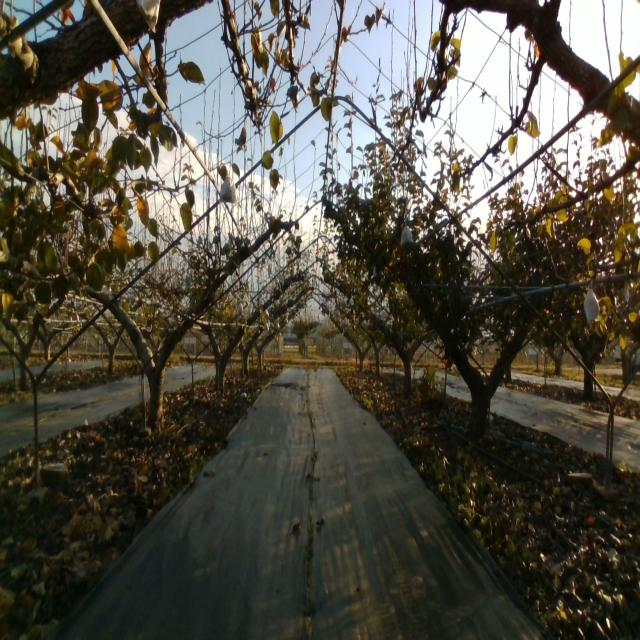pearbags: (584, 287, 600, 323), (220, 176, 238, 204), (399, 224, 414, 247)
